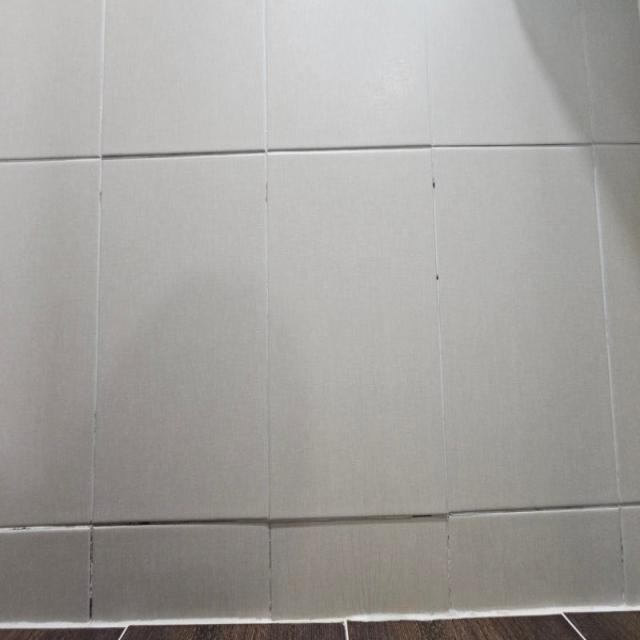tile: (92, 149, 446, 525)
